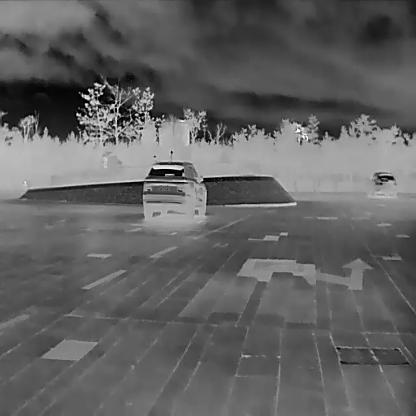car: (142, 160, 206, 223), (367, 171, 396, 199)
